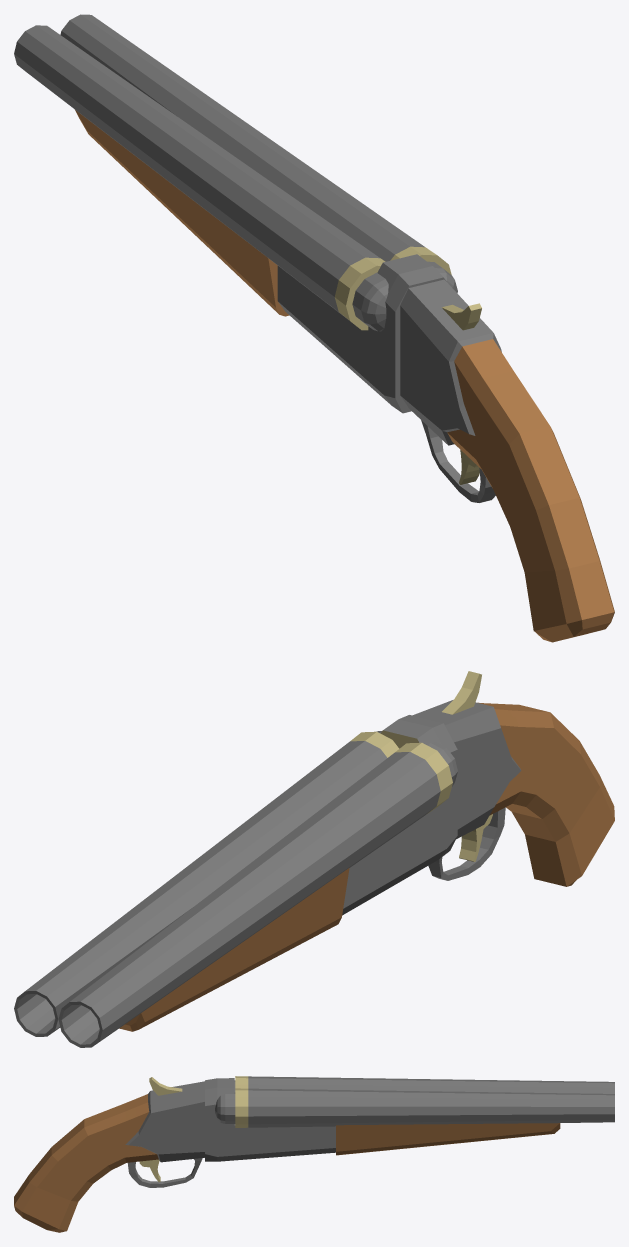
The model's file is cso.glb.
3 views of the same model, one above another, from view 1: azimuth 30°, elevation 25°; view 2: azimuth 150°, elevation 25°; view 3: azimuth 270°, elevation 25° (orthographic). The views are drawn at different scales.
Parts seen in each view (by area): view 1: Shotgun_SawedOff; view 2: Shotgun_SawedOff; view 3: Shotgun_SawedOff.
Part boxes in pixels (box(x1,y1,x2,y2)): Shotgun_SawedOff: box(14, 14, 614, 642); Shotgun_SawedOff: box(14, 671, 614, 1047); Shotgun_SawedOff: box(14, 1076, 614, 1232).
Bounding box in the file's own units: 74.22 × 179 × 648.
